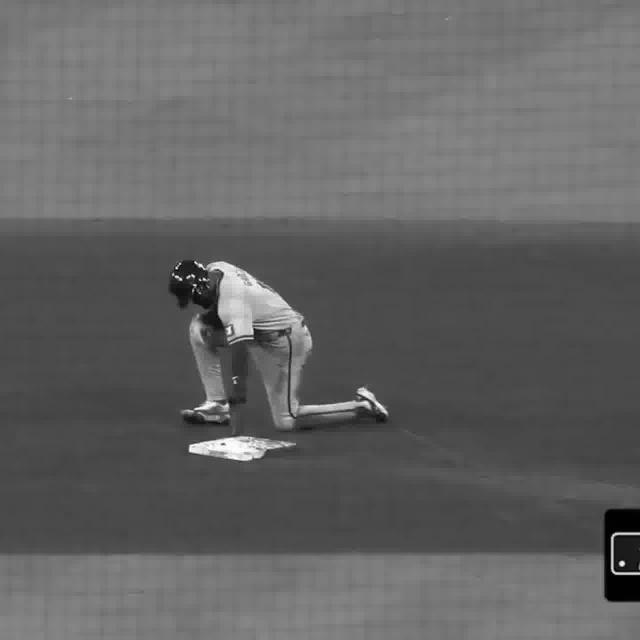base: (188, 438, 296, 459)
shoe: (357, 392, 388, 426), (186, 404, 231, 425)
